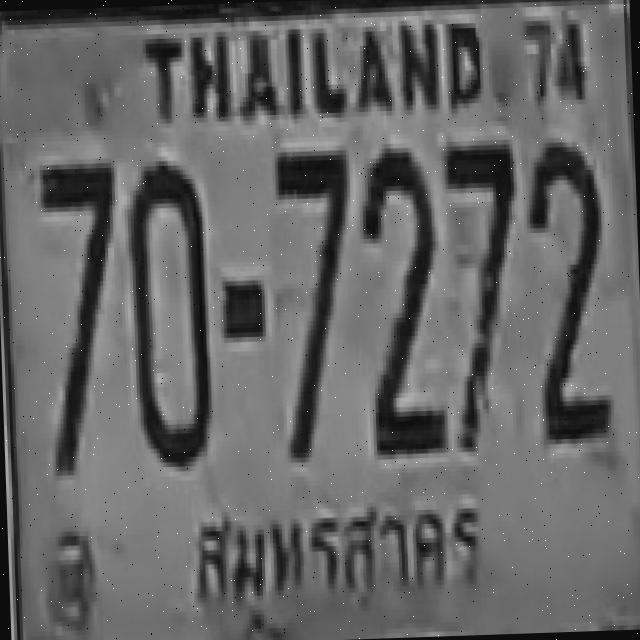0: (124, 157, 212, 466)
2: (525, 138, 610, 446), (359, 146, 441, 454)
7: (36, 158, 121, 471), (272, 144, 354, 458), (442, 140, 520, 448), (36, 158, 120, 428), (36, 158, 118, 367), (442, 140, 518, 353)
SamutSakhon: (176, 481, 494, 636)
